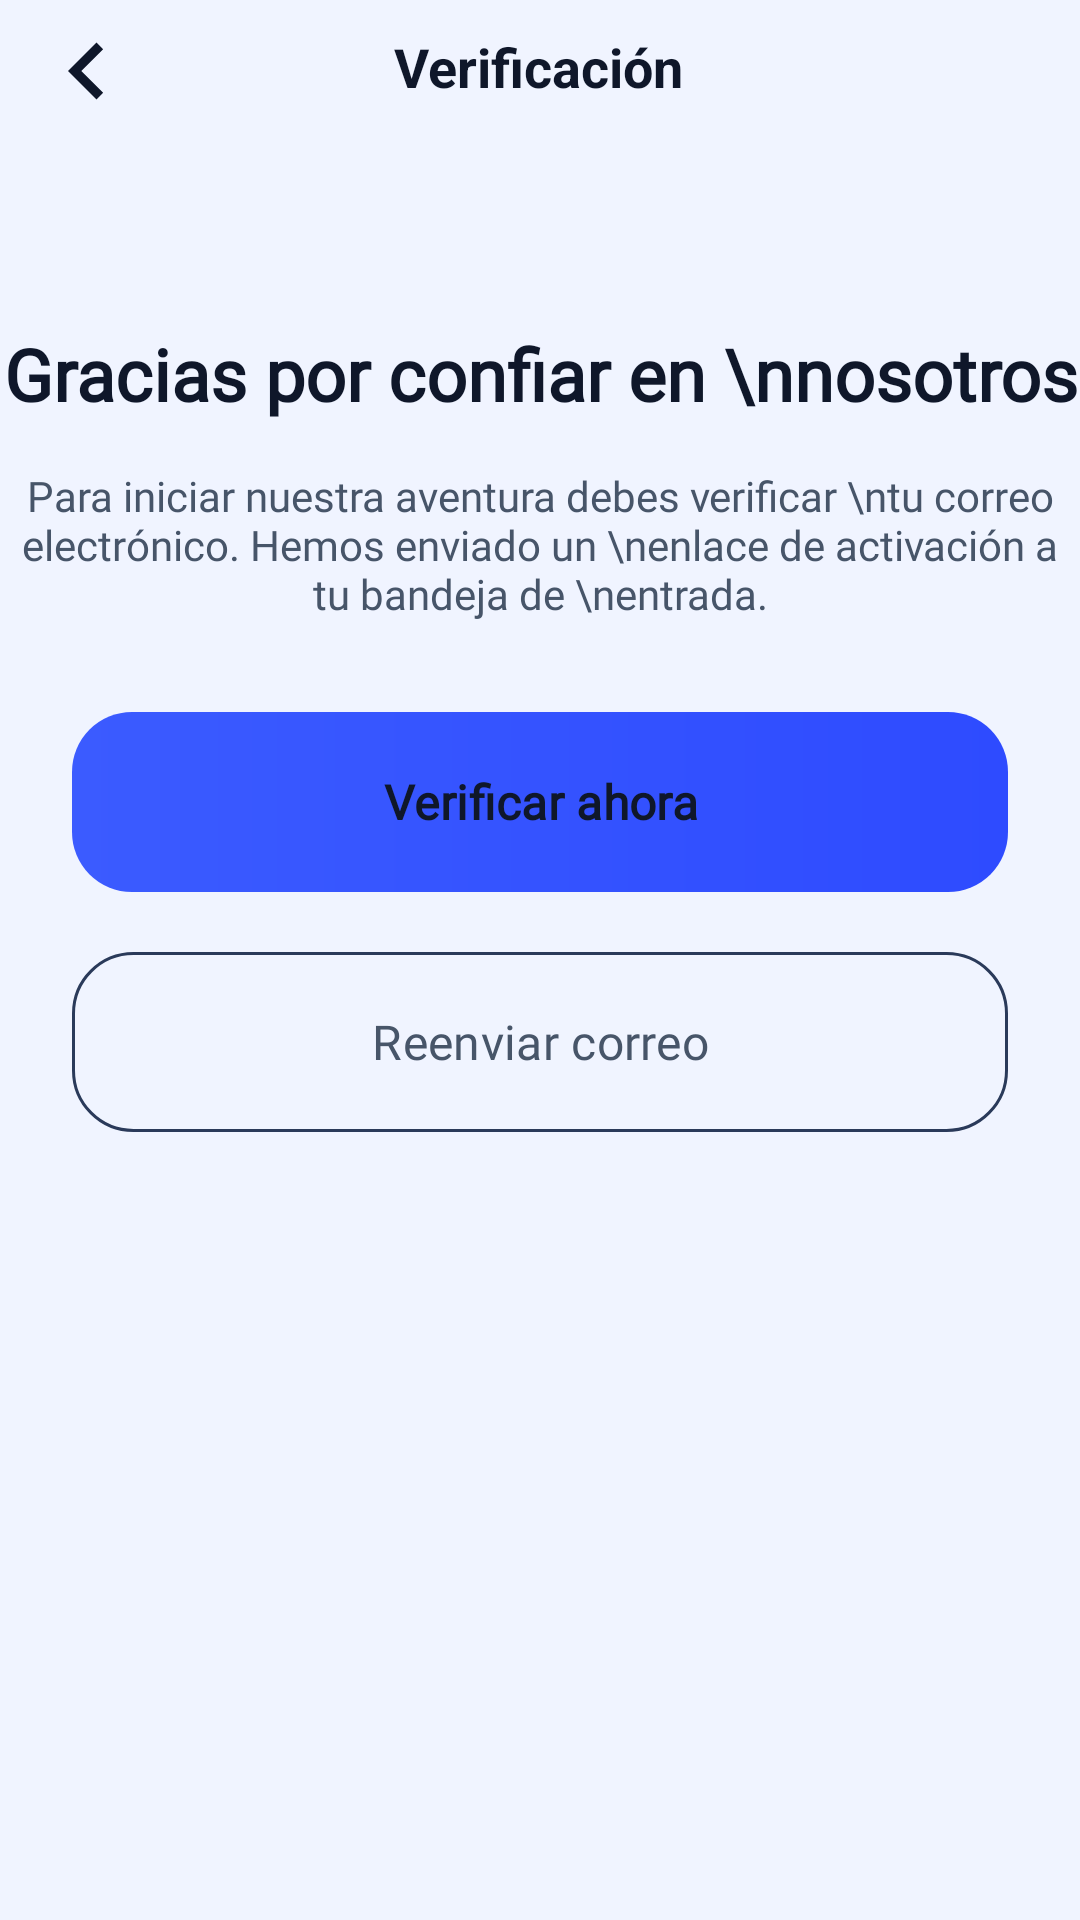

Named icons in this screenshot (1080px x 1920px) and their bounding boxes, [x1=x1, y1=y1, x2=x2, y2=y2]:
back: [x1=68, y1=42, x2=103, y2=100]
